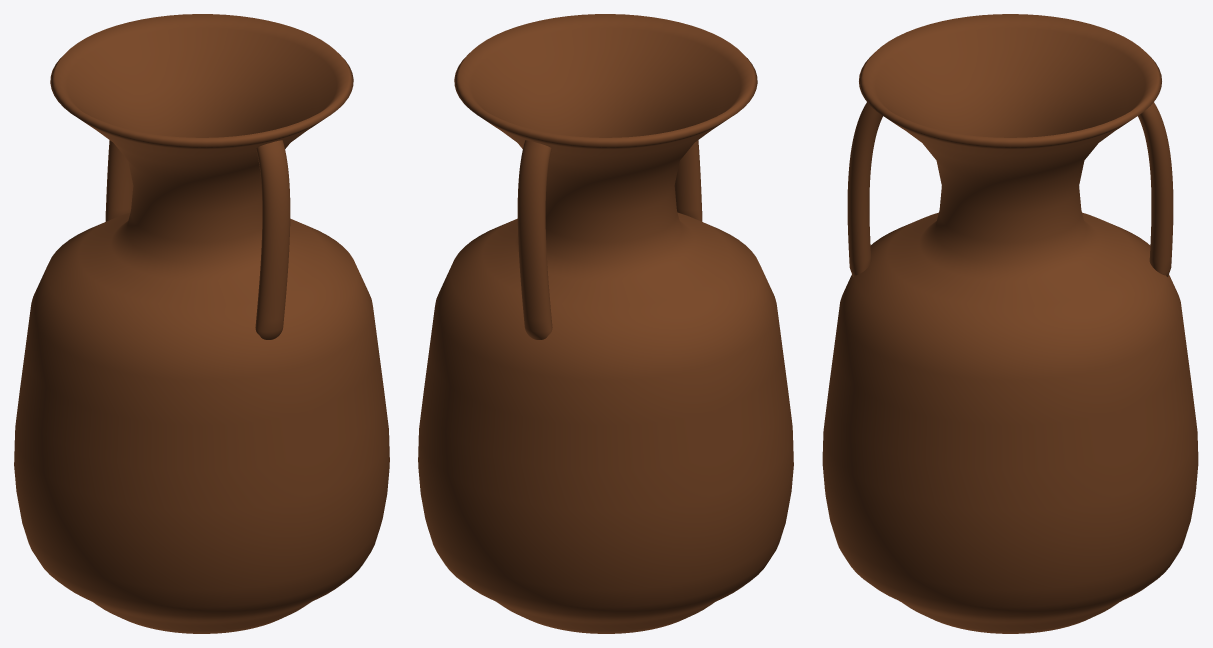
The model's file is MediumVase2Handle.fbx.
The picture shows the model from 3 angles, left to right: view 1: azimuth 30°, elevation 25°; view 2: azimuth 150°, elevation 25°; view 3: azimuth 270°, elevation 25°; orthographic projection.
Parts seen in each view (by area): view 1: Sphere, BezierCurve; view 2: Sphere, BezierCurve; view 3: Sphere, BezierCurve.
Part boxes in pixels (x1=…): Sphere: x1=14, y1=14, x2=389, y2=633; BezierCurve: x1=105, y1=140, x2=290, y2=339; Sphere: x1=418, y1=14, x2=793, y2=633; BezierCurve: x1=517, y1=140, x2=702, y2=339; Sphere: x1=822, y1=14, x2=1198, y2=633; BezierCurve: x1=847, y1=102, x2=1173, y2=276.
Bounding box in the file's own units: 196 × 298 × 196.
